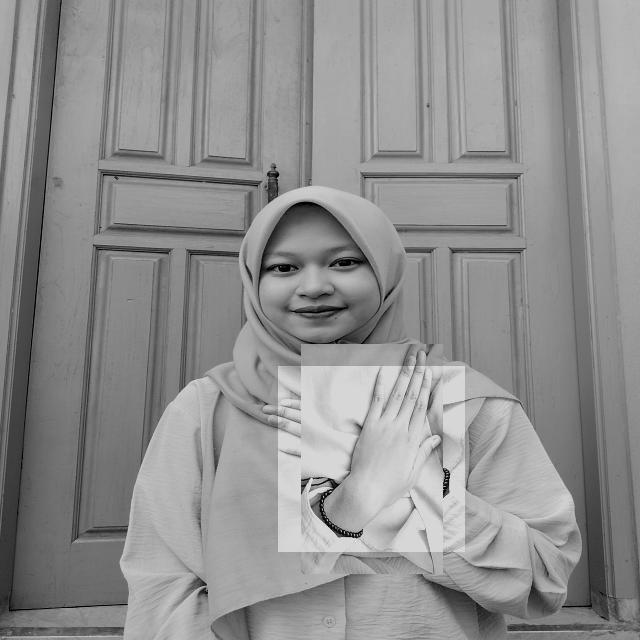tolong: (278, 366, 465, 552)
